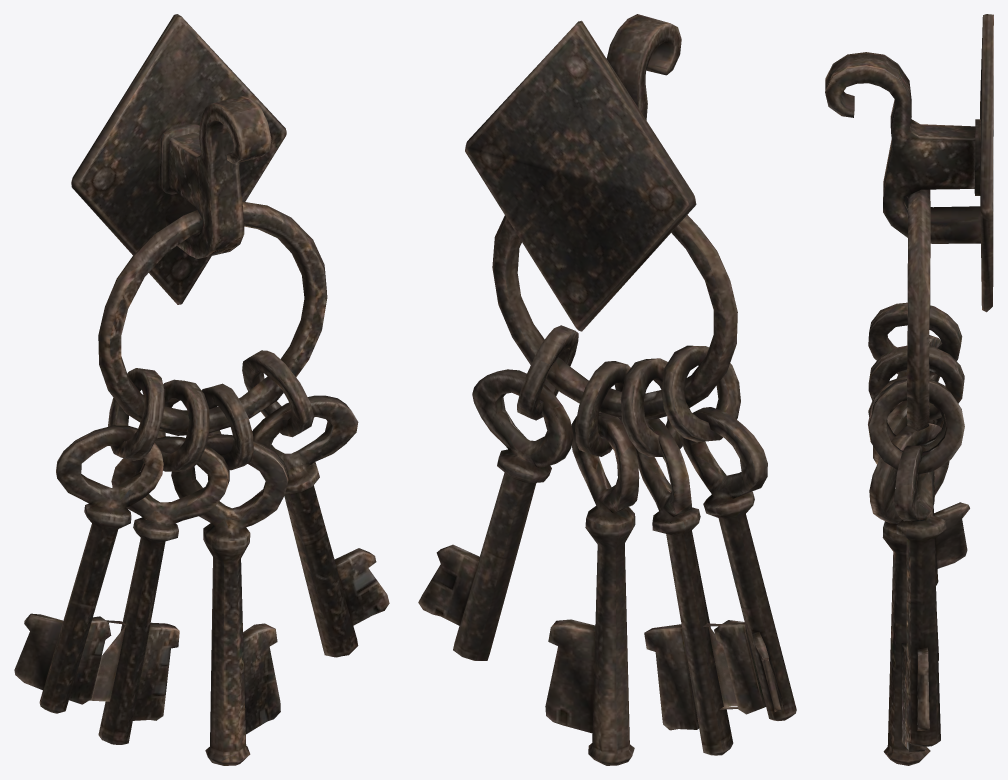
File: d_keyring_hanging.glb
The picture shows the model from 3 angles, left to right: view 1: azimuth 30°, elevation 25°; view 2: azimuth 150°, elevation 25°; view 3: azimuth 270°, elevation 25°; orthographic projection. The views are drawn at different scales.
Visible parts, largest first — view 1: d_keyring_hanging; view 2: d_keyring_hanging; view 3: d_keyring_hanging.
Boxes of the visible parts, bbox=[...] form: d_keyring_hanging: bbox=[14, 14, 389, 765]; d_keyring_hanging: bbox=[418, 14, 796, 765]; d_keyring_hanging: bbox=[825, 14, 993, 765].
Bounding box in the file's own units: 0.631 × 1.22 × 0.2528.
Materials: 1 (1 with a texture image).
